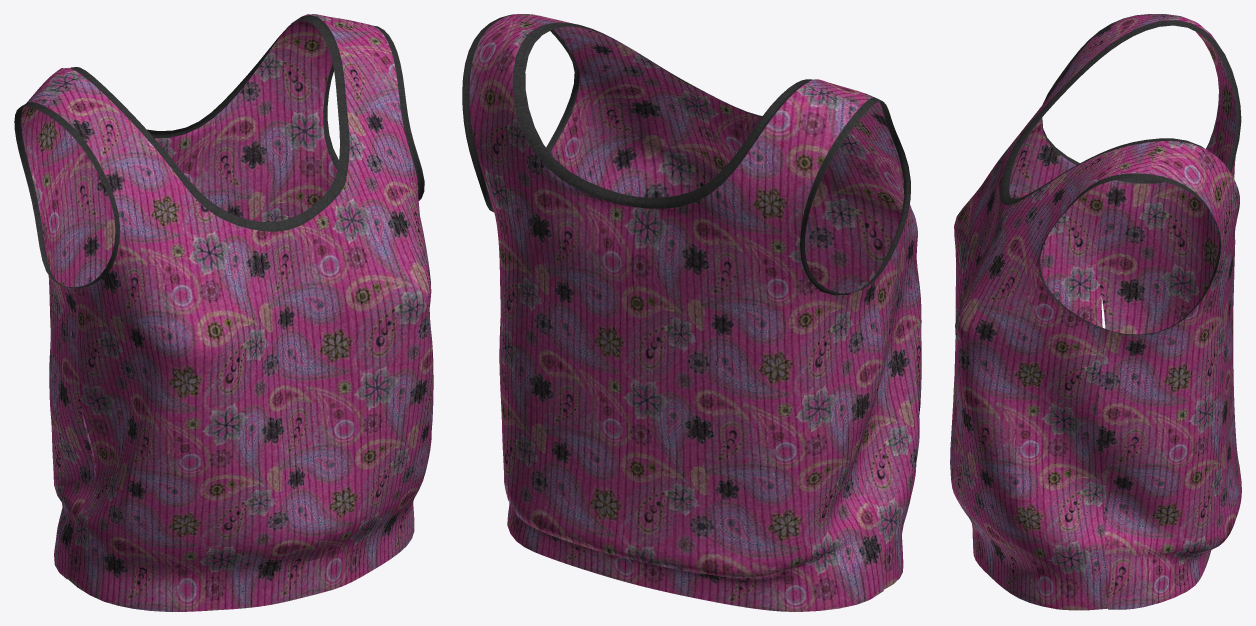
The model's file is toigo-camisole-top.glb.
3 renders of one model, left to right at view 1: azimuth 30°, elevation 25°; view 2: azimuth 150°, elevation 25°; view 3: azimuth 270°, elevation 25°, orthographic. The views are drawn at different scales.
Visible parts, largest first — view 1: camisole top; view 2: camisole top; view 3: camisole top.
Part boxes in pixels (x1,y1,x2,y2): camisole top: (14,14,433,611); camisole top: (462,14,921,611); camisole top: (950,14,1241,610).
Bounding box in the file's own units: 31.53 × 41.77 × 23.82.
Materials: 1 (1 with a texture image).
